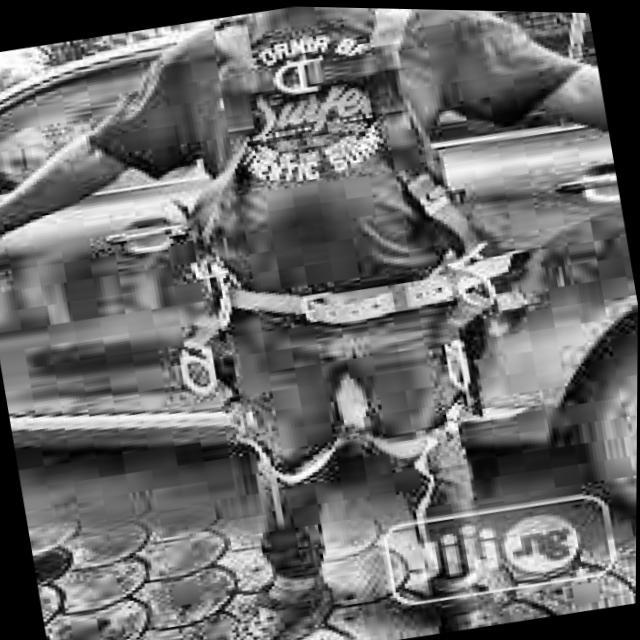belt: (151, 3, 510, 488)
